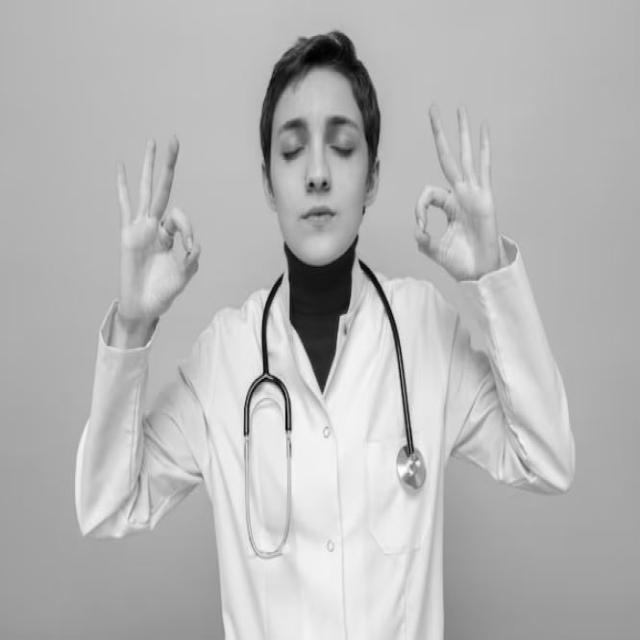perfect: (112, 126, 204, 338), (409, 98, 502, 282)
